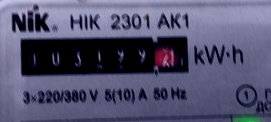0: (47, 49, 58, 68), (24, 50, 33, 68)
1: (91, 46, 100, 64)
3: (69, 49, 79, 69)
6: (157, 54, 167, 68)
9: (112, 45, 122, 65), (134, 47, 144, 65)
screen: (10, 29, 192, 83)
